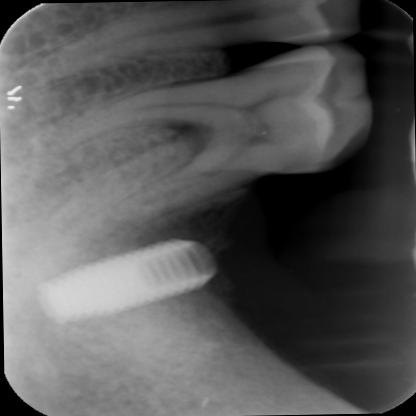Bicon: (28, 224, 222, 327)
